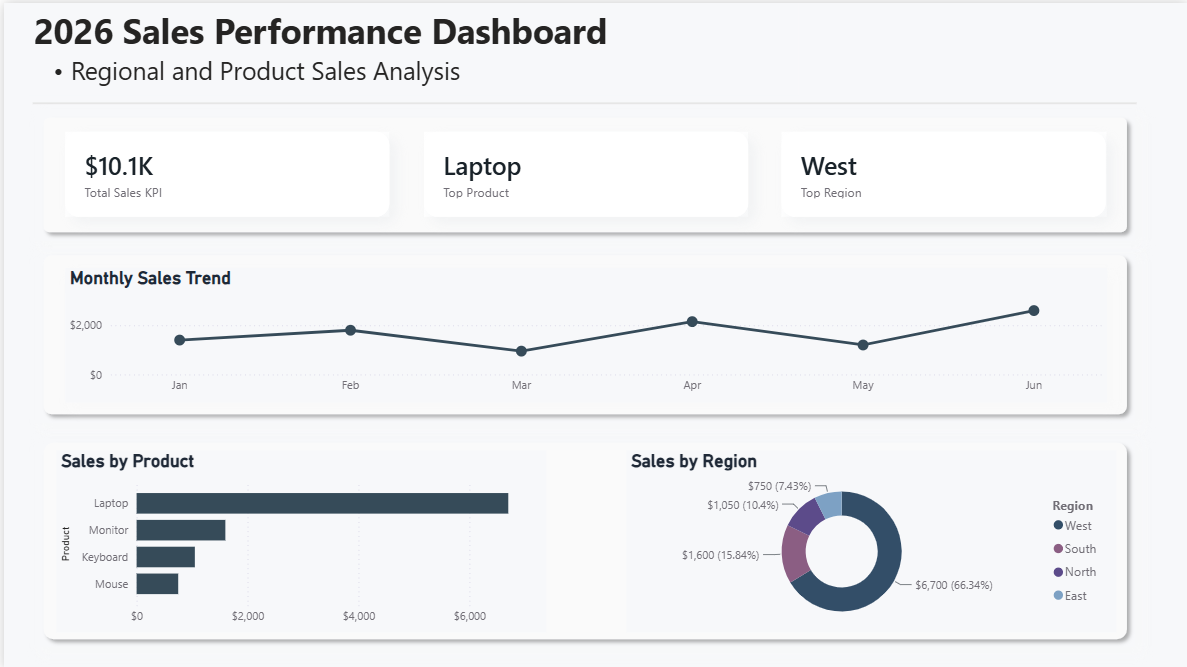

What the dashboard file says about the page in this screenshot:
{"tool":"powerbi","page":{"name":"1 페이지","canvas":[1280,720],"ordinal":0},"visuals":[{"type":"textbox","box":[26.8,0,831.6,99.7],"z":0},{"type":"cardVisual","fields":{"Data":["sales_dashboard.Total Sales KPI"]},"box":[65.7,139.7,350,92.3],"z":0,"group":"g4"},{"type":"cardVisual","fields":{"Data":["sales_dashboard.Top Product"]},"box":[453.2,139.7,350,92.3],"z":0,"group":"g3"},{"type":"cardVisual","fields":{"Data":["sales_dashboard.Top Region"]},"box":[840.3,139.7,350,92.3],"z":0,"group":"g2"},{"type":"shape","box":[30.7,37.7,1193.4,141.1],"z":1000},{"type":"shape","box":[34.3,114.7,1189.2,142],"z":2000},{"type":"group","id":"g1","title":"그룹 2","box":[65.7,139.7,1125.4,92.3],"z":3000},{"type":"shape","box":[34.3,263.7,1189.2,190],"z":4000},{"type":"lineChart","title":"Monthly Sales Trend","fields":{"Y":["Sum(sales_dashboard.Sales)"],"Category":["sales_dashboard.Month"]},"box":[65.7,286.5,1126.3,145.3],"z":5000},{"type":"group","id":"g2","title":"그룹 1","box":[840.3,139.7,350.7,92.2],"z":6000,"group":"g1"},{"type":"shape","box":[34.3,466.7,1189.2,230.6],"z":6000},{"type":"group","id":"g3","title":"그룹 1","box":[453.2,139.7,350.7,92.2],"z":7000,"group":"g1"},{"type":"donutChart","title":"Sales by Region","fields":{"Category":["sales_dashboard.Region"],"Y":["Sum(sales_dashboard.Sales)"]},"box":[673.5,483.9,529.6,197],"z":7000},{"type":"group","id":"g4","title":"그룹 1","box":[65.7,139.7,350,92.3],"z":8000,"group":"g1"},{"type":"barChart","title":"Sales by Product","fields":{"Category":["sales_dashboard.Product"],"Y":["Sum(sales_dashboard.Sales)"]},"box":[57.3,483.9,529.6,197],"z":8000}]}

Visuals, with their boxes in screenshot pixels (x1, y1, x2, y2), scaled from the page's 1280x720 canvas onto the 1187x667 screenshot:
textbox: box(25, 0, 796, 92)
cardVisual - sales_dashboard.Total Sales KPI: box(61, 129, 385, 215)
cardVisual - sales_dashboard.Top Product: box(420, 129, 745, 215)
cardVisual - sales_dashboard.Top Region: box(779, 129, 1104, 215)
shape: box(28, 35, 1135, 166)
shape: box(32, 106, 1135, 238)
"그룹 2" group: box(61, 129, 1105, 215)
shape: box(32, 244, 1135, 420)
"Monthly Sales Trend" lineChart: box(61, 265, 1105, 400)
"그룹 1" group: box(779, 129, 1104, 215)
shape: box(32, 432, 1135, 646)
"그룹 1" group: box(420, 129, 745, 215)
"Sales by Region" donutChart: box(625, 448, 1116, 631)
"그룹 1" group: box(61, 129, 385, 215)
"Sales by Product" barChart: box(53, 448, 544, 631)
